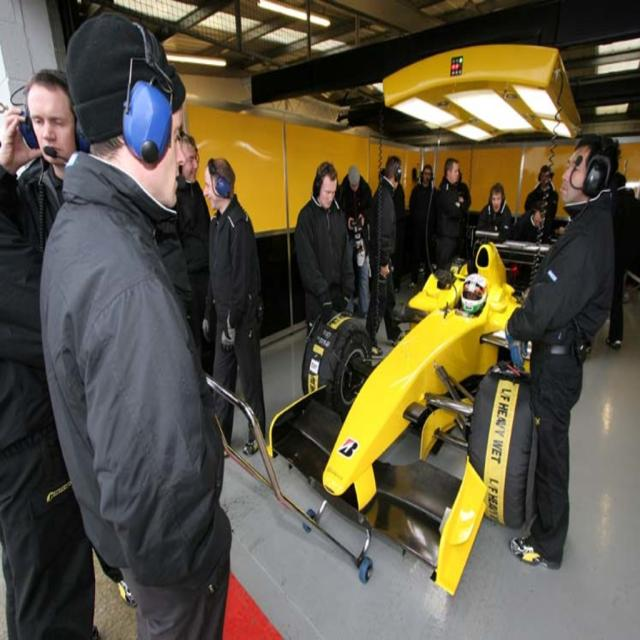car: (324, 231, 579, 561)
